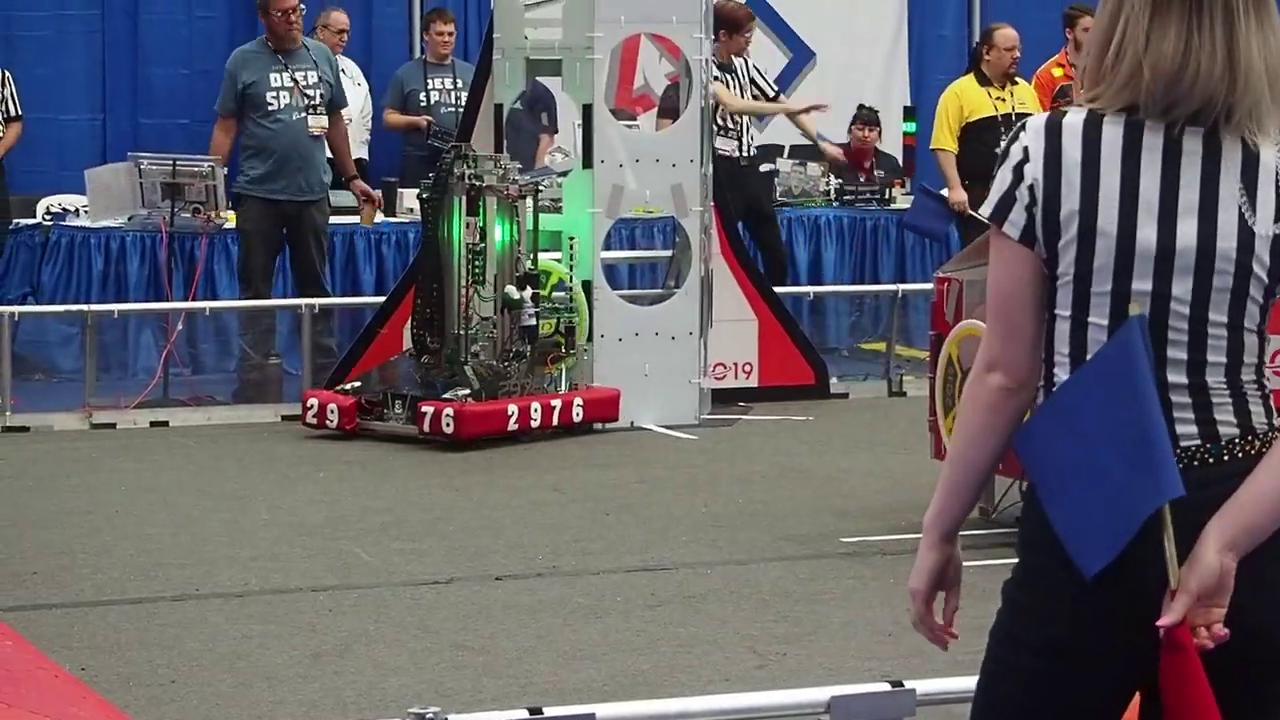robot: (302, 147, 621, 448)
